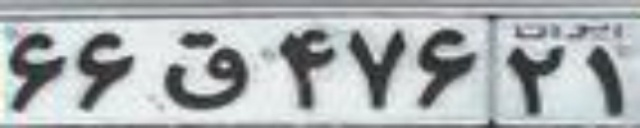1: (583, 43, 624, 117)
2: (508, 42, 568, 115)
4: (277, 27, 337, 111)
6: (414, 26, 479, 112), (78, 30, 138, 112), (9, 30, 64, 114)
7: (347, 27, 407, 109)
ghaf: (162, 31, 251, 110)
